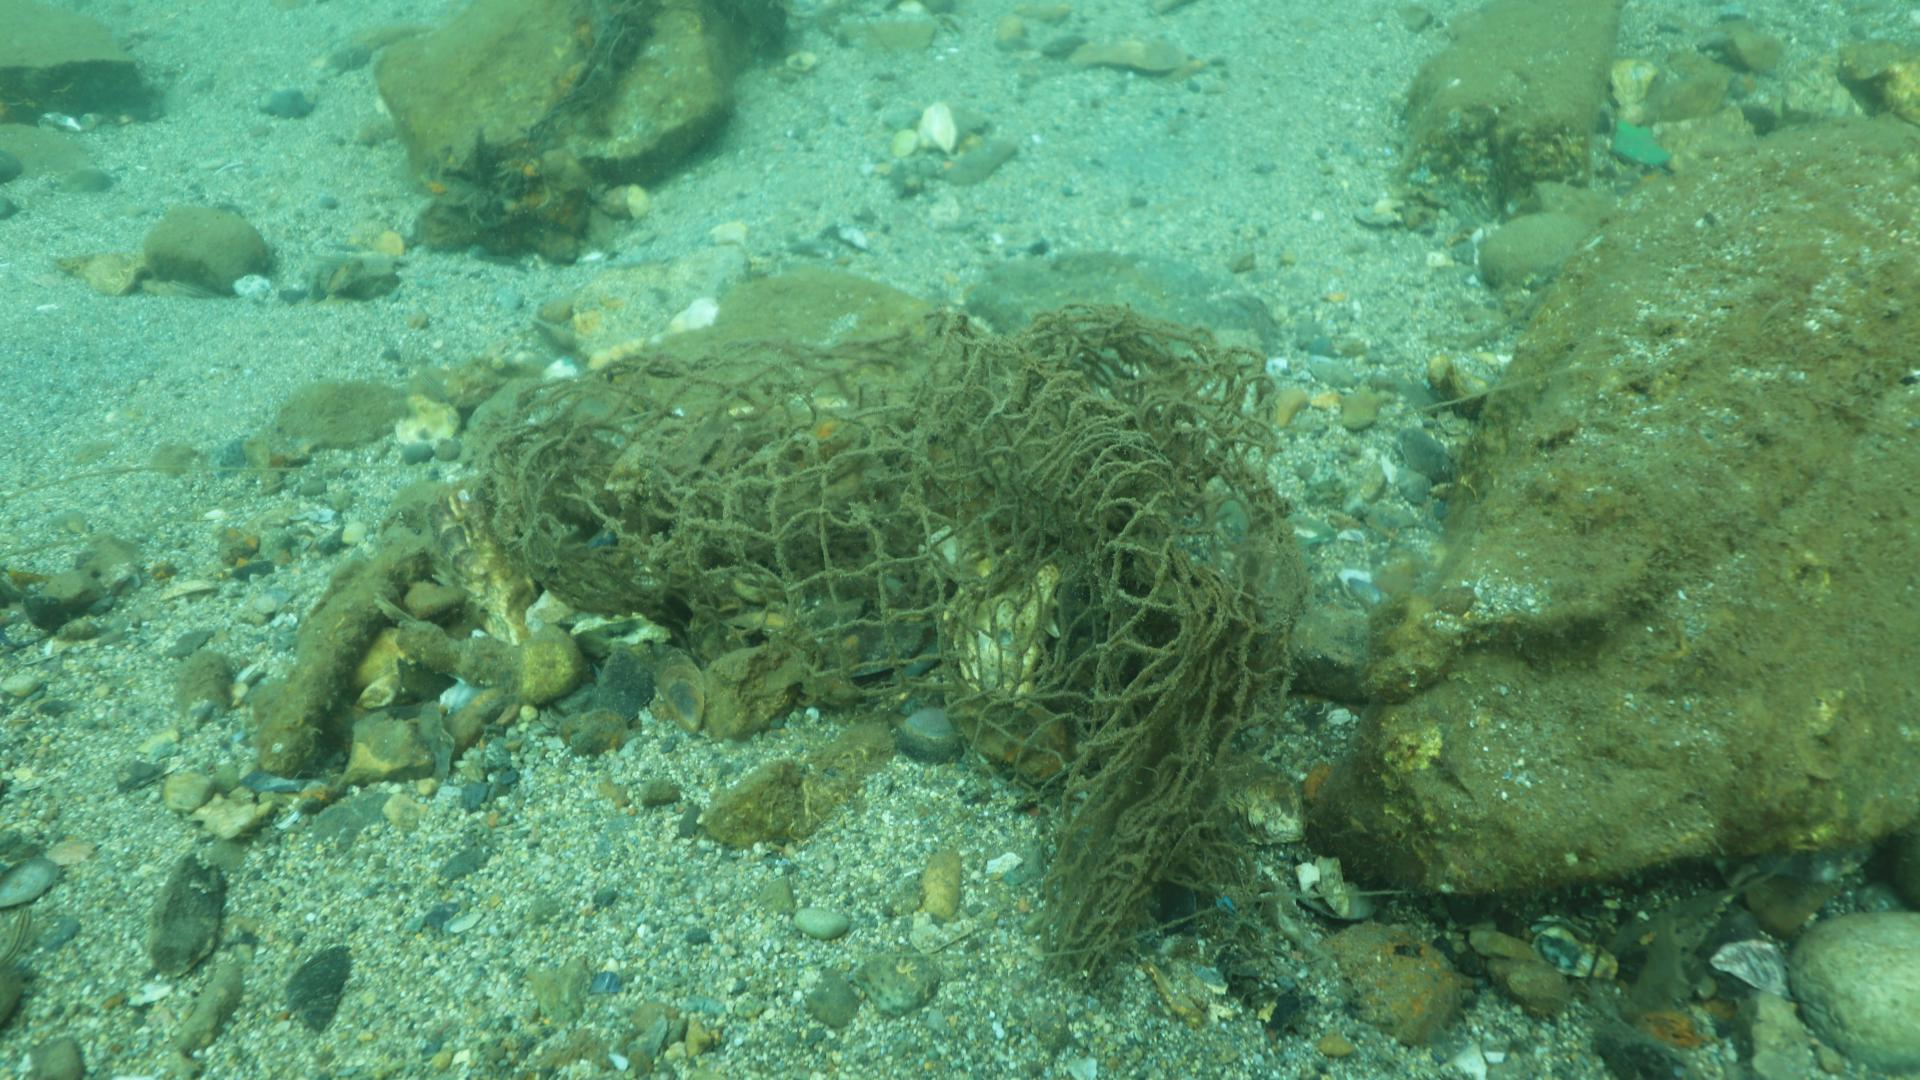fish net: (485, 301, 1308, 985)
